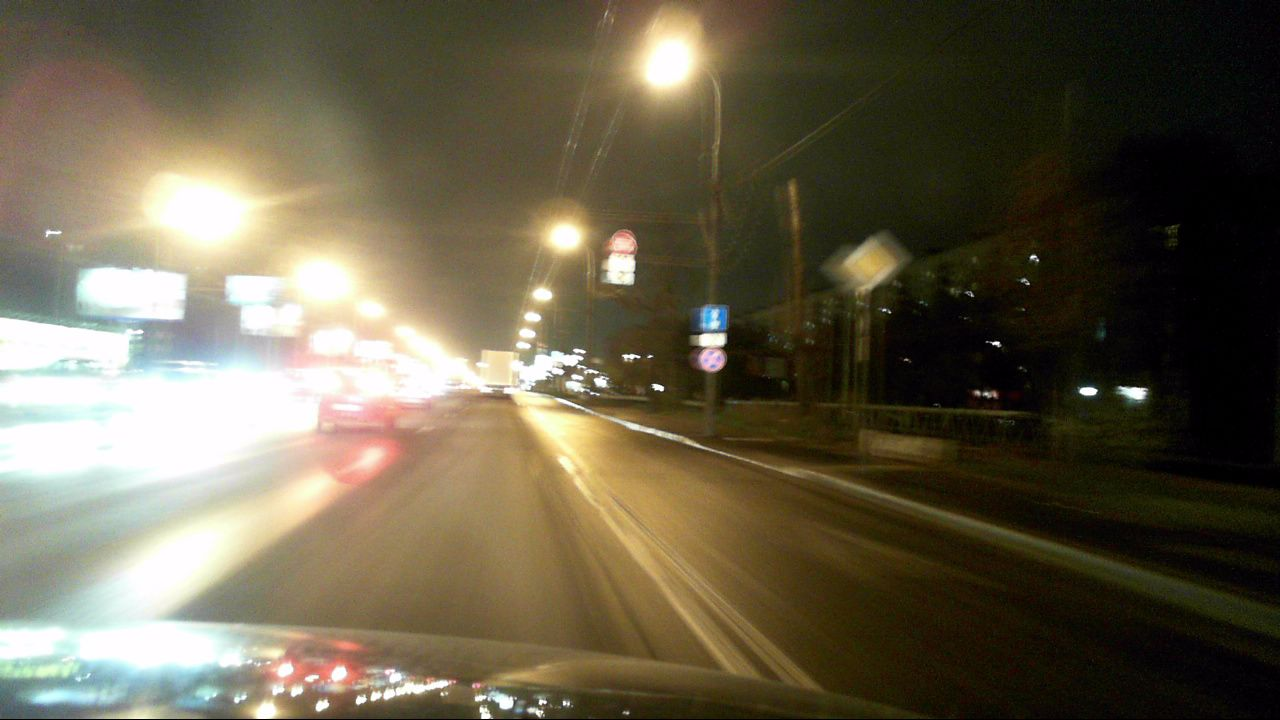No Parking: (700, 347, 726, 372)
